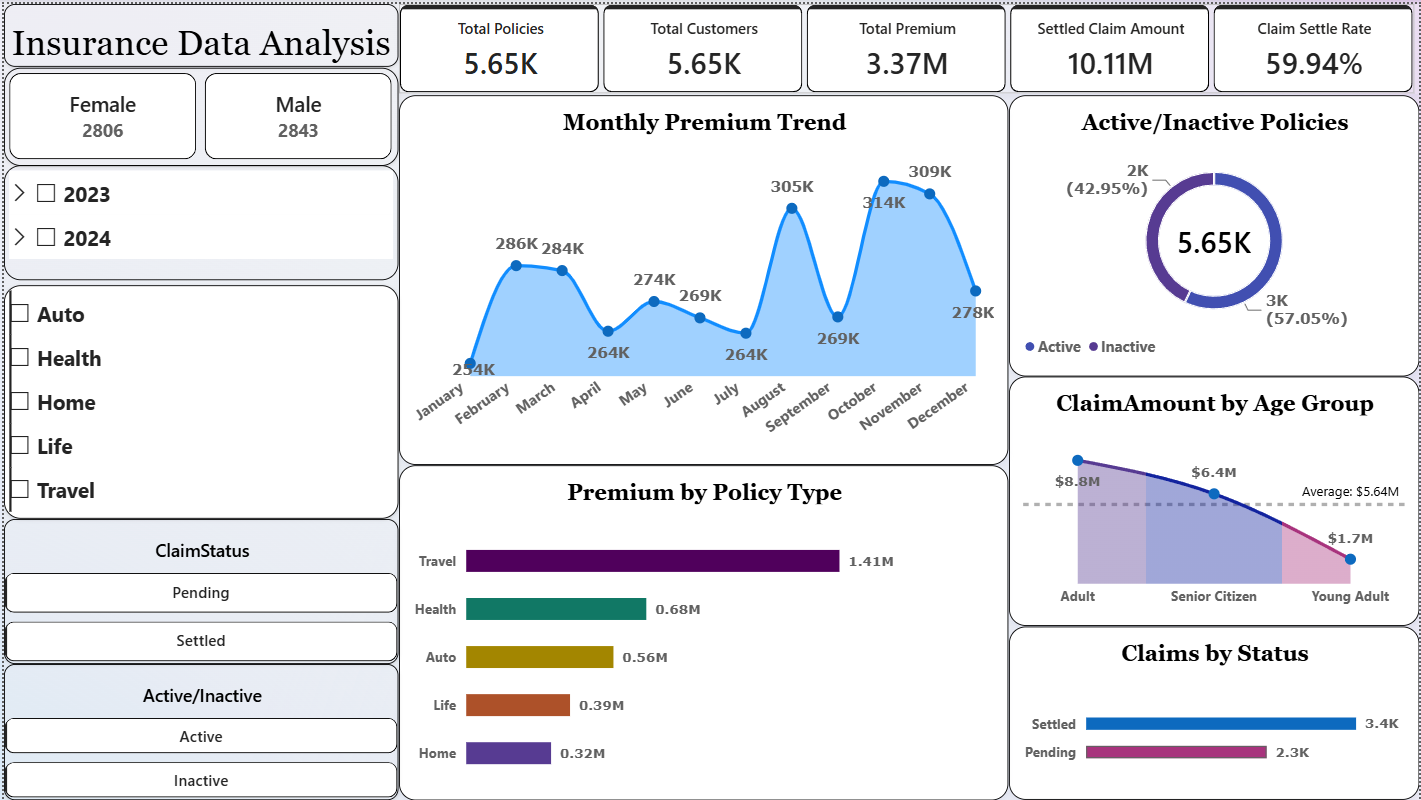

The page's visual inventory and layout, read from the dashboard file:
{"tool":"powerbi","page":{"name":"Analysis","canvas":[1280,720],"ordinal":0},"visuals":[{"type":"cardVisual","fields":{"Data":["InsuranceData.Total Policies","InsuranceData.Total Customers","InsuranceData.Total Premium","InsuranceData.Approved Claim Amount","InsuranceData.Claim Approval Rate"]},"box":[357.1,0,922.9,81.4],"z":0},{"type":"textbox","box":[0,0,357.1,57.1],"z":1000},{"type":"donutChart","title":"Active/Inactive Policies","fields":{"Category":["InsuranceData.Active/Inactive"],"Y":["InsuranceData.Total Policies"]},"box":[908.6,82.9,371.4,254.3],"z":2000},{"type":"advancedSlicerVisual","fields":{"Label":["CountNonNull(InsuranceData.Gender)"],"Values":["InsuranceData.Gender"]},"box":[0,57.1,357.1,88.6],"z":3000},{"type":"lineChart","title":"ClaimAmount by Age Group","fields":{"Category":["InsuranceData.Age Group"],"Y":["Sum(InsuranceData.ClaimAmount)"]},"box":[908.6,337.1,371.4,225.7],"z":4000},{"type":"lineChart","title":"Monthly Premium Trend","fields":{"Category":["InsuranceData.PolicyStartDate.Variation.Date Hierarchy.Month"],"Y":["InsuranceData.Total Premium"]},"box":[357.1,82.9,551.4,334.3],"z":5000},{"type":"clusteredBarChart","title":"Claims by Status","fields":{"Category":["InsuranceData.ClaimStatus"],"Y":["CountNonNull(InsuranceData.ClaimNumber)"]},"box":[908.6,562.9,371.4,157.1],"z":6000},{"type":"clusteredBarChart","title":"Premium by Policy Type","fields":{"Category":["InsuranceData.PolicyType"],"Y":["InsuranceData.Total Premium"]},"box":[357.1,417.1,551.4,302.9],"z":7000},{"type":"listSlicer","fields":{"Values":["InsuranceData.PolicyStartDate.Variation.Date Hierarchy.Year","InsuranceData.PolicyStartDate.Variation.Date Hierarchy.Month"]},"box":[0,145.7,357.1,104.3],"z":8000},{"type":"listSlicer","fields":{"Values":["InsuranceData.PolicyType"]},"box":[0,254.3,357.1,211.4],"z":10000},{"type":"advancedSlicerVisual","fields":{"Values":["InsuranceData.ClaimStatus"]},"box":[0,465.7,357.1,131.4],"z":11000},{"type":"advancedSlicerVisual","fields":{"Values":["InsuranceData.Active/Inactive"]},"box":[0,597.1,357.1,122.9],"z":11001}]}

Visuals, with their boxes in screenshot pixels (x1, y1, x2, y2), scaled from the page's 1280x720 canvas onto the 1421x800 screenshot:
cardVisual - InsuranceData.Total Policies x InsuranceData.Total Customers: 396, 0, 1420, 90
textbox: 0, 0, 396, 63
"Active/Inactive Policies" donutChart: 1009, 92, 1420, 375
advancedSlicerVisual - CountNonNull(InsuranceData.Gender) x InsuranceData.Gender: 0, 63, 396, 162
"ClaimAmount by Age Group" lineChart: 1009, 375, 1420, 625
"Monthly Premium Trend" lineChart: 396, 92, 1009, 464
"Claims by Status" clusteredBarChart: 1009, 625, 1420, 799
"Premium by Policy Type" clusteredBarChart: 396, 463, 1009, 799
listSlicer - InsuranceData.PolicyStartDate.Variation.Date Hierarchy.Year x InsuranceData.PolicyStartDate.Variation.Date Hierarchy.Month: 0, 162, 396, 278
listSlicer - InsuranceData.PolicyType: 0, 283, 396, 517
advancedSlicerVisual - InsuranceData.ClaimStatus: 0, 517, 396, 663
advancedSlicerVisual - InsuranceData.Active/Inactive: 0, 663, 396, 799
